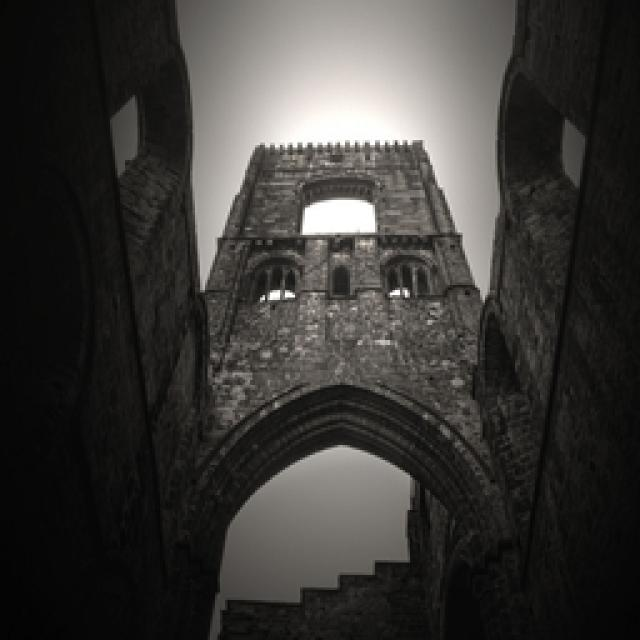Abbey: (157, 1, 522, 640)
